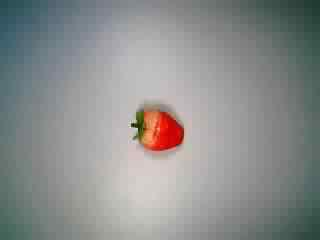strawberry: (117, 99, 190, 166)
